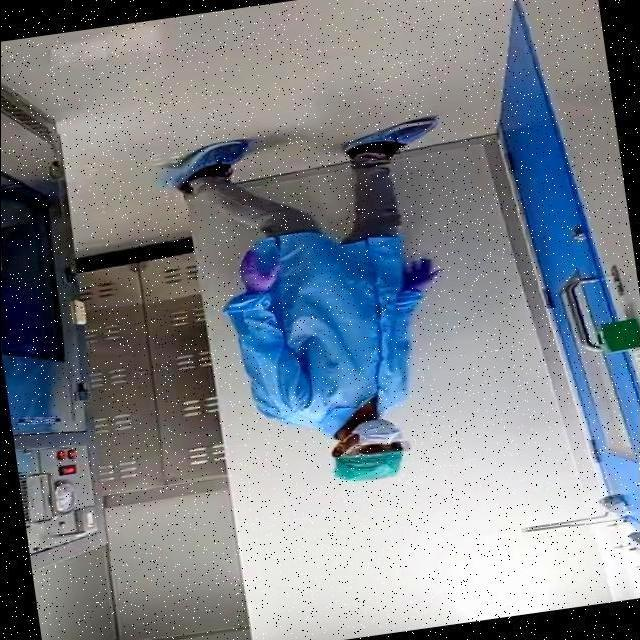apron: (402, 255, 444, 308), (239, 244, 275, 288)
